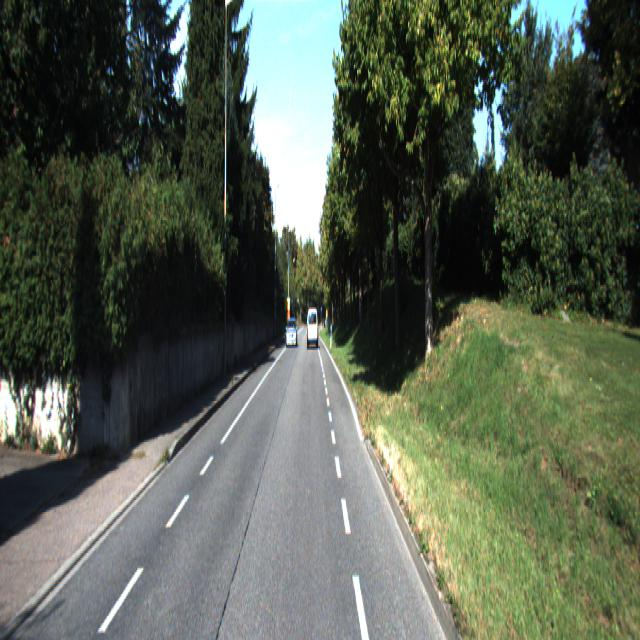Car: (306, 307, 319, 350), (286, 318, 298, 349)
